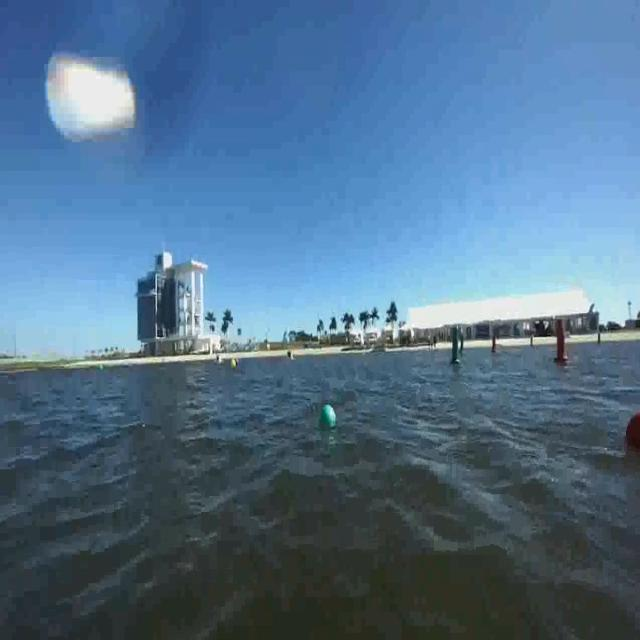green-buoy: (322, 406, 338, 430)
green-column-buoy: (449, 326, 464, 368)
red-buoy: (624, 411, 640, 457)
red-column-buoy: (554, 320, 569, 366), (491, 335, 498, 354)
yellow-buoy: (232, 356, 240, 369)
